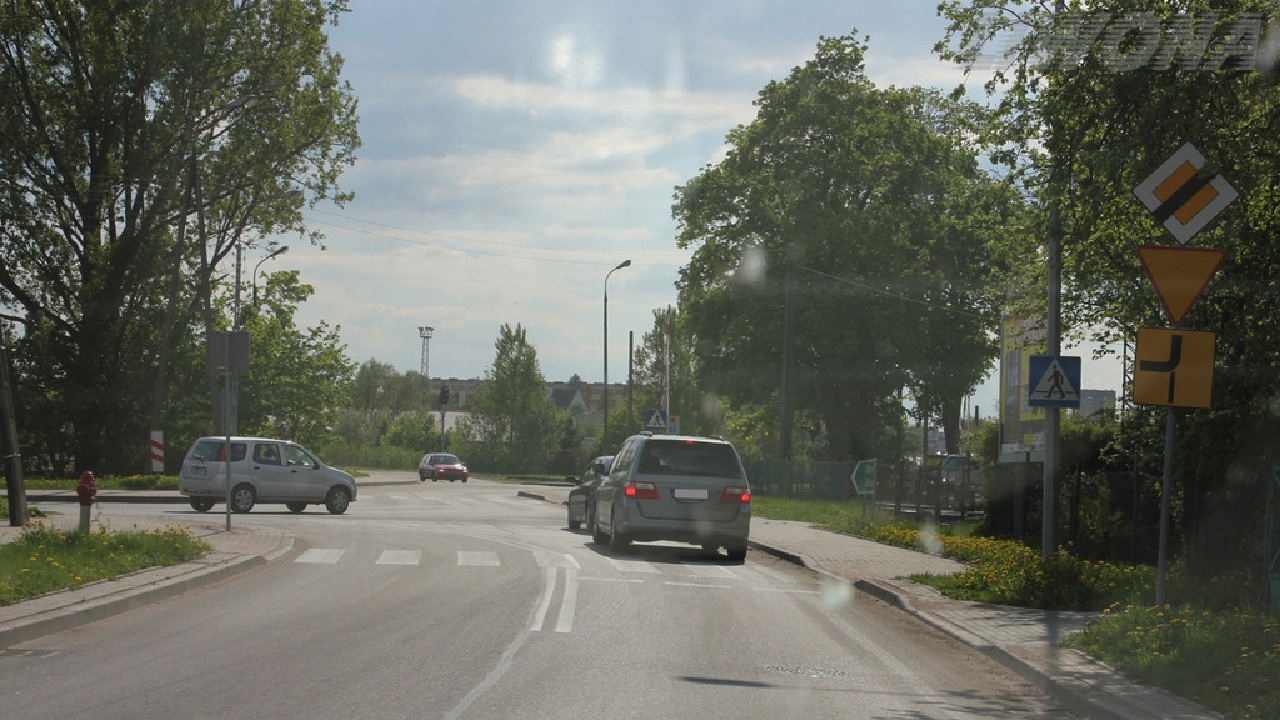A7: (1137, 244, 1228, 327)
D2: (1134, 142, 1239, 243)
D6: (1030, 354, 1081, 408)
